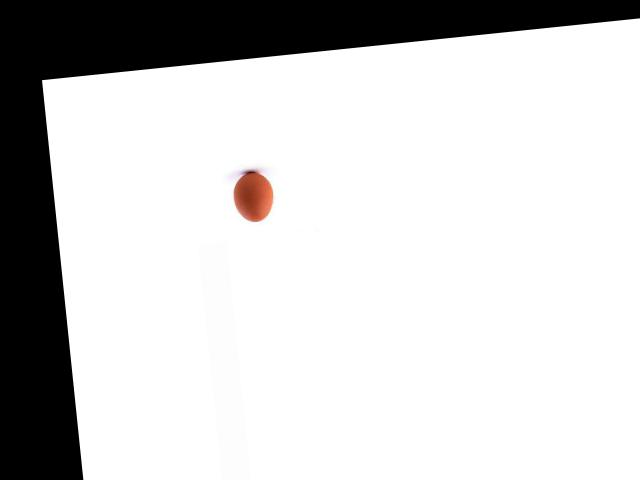egg: (230, 170, 275, 223)
